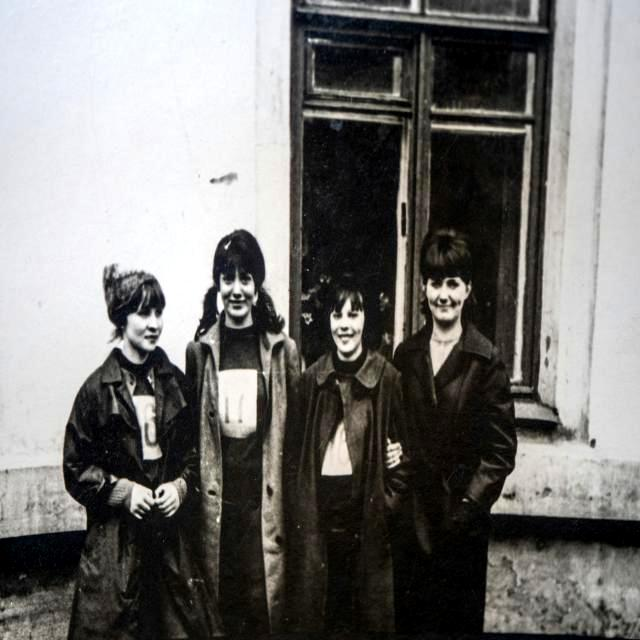no_hard_hat: (103, 264, 157, 310)
no_head_wear: (214, 229, 264, 276), (421, 228, 471, 267), (329, 274, 364, 310)
person: (63, 265, 198, 640), (393, 228, 517, 632), (186, 230, 301, 637), (292, 277, 403, 634)
